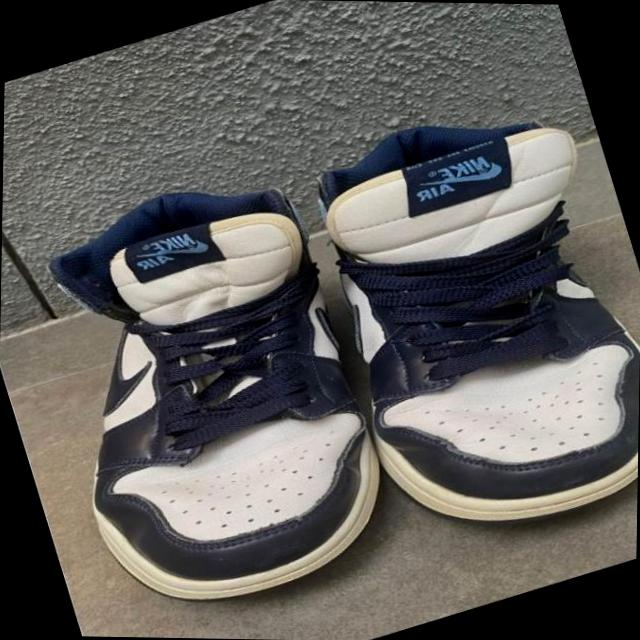nike_fake_jordan: (0, 147, 415, 640), (278, 74, 640, 569)
